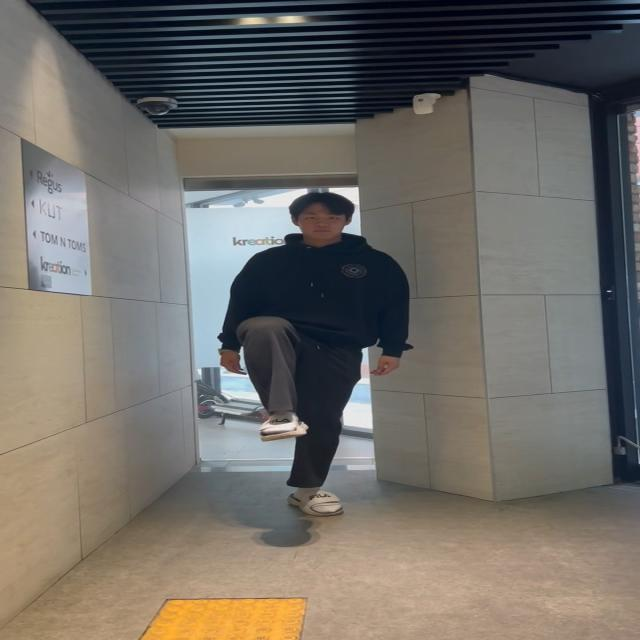knee: (237, 311, 320, 441)
